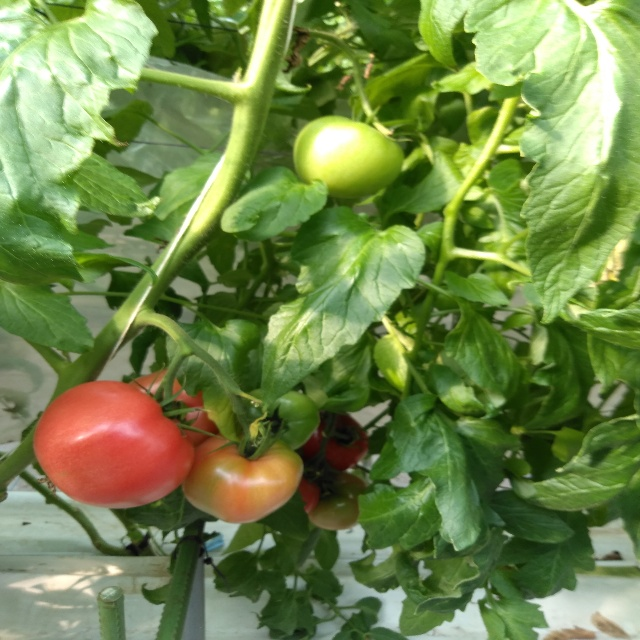b_fully_ripened: (32, 380, 195, 509), (303, 409, 368, 471)
b_green: (292, 115, 404, 200), (232, 387, 320, 451), (307, 472, 372, 531)
b_half_ripened: (181, 431, 303, 525), (127, 368, 219, 449)
